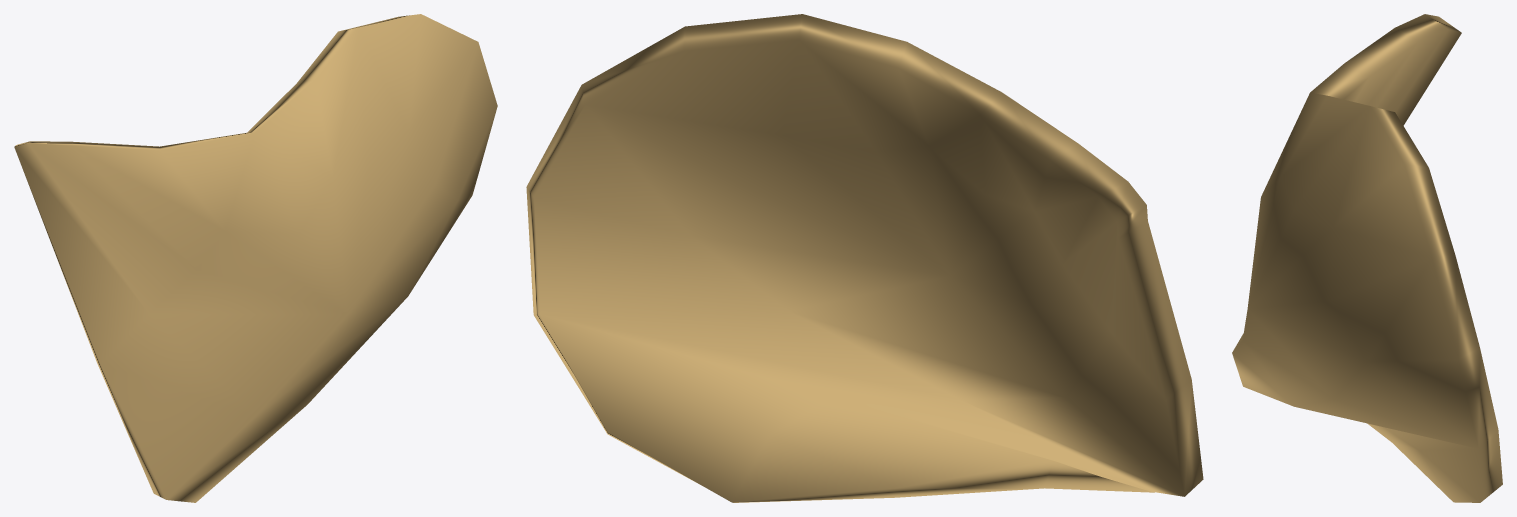
3 views of the same model, side by side, from view 1: azimuth 30°, elevation 25°; view 2: azimuth 150°, elevation 25°; view 3: azimuth 270°, elevation 25° (orthographic). The views are drawn at different scales.
Visible parts, largest first — view 1: 左侧内侧半月板前半月板胫骨韧带; view 2: 左侧内侧半月板前半月板胫骨韧带; view 3: 左侧内侧半月板前半月板胫骨韧带.
Part boxes in pixels (x1,y1,x2,y2): 左侧内侧半月板前半月板胫骨韧带: (14, 14, 497, 502); 左侧内侧半月板前半月板胫骨韧带: (526, 14, 1203, 502); 左侧内侧半月板前半月板胫骨韧带: (1232, 14, 1502, 502).
Size of the model in its own units: 0.0148 by 0.0108 by 0.00671.
